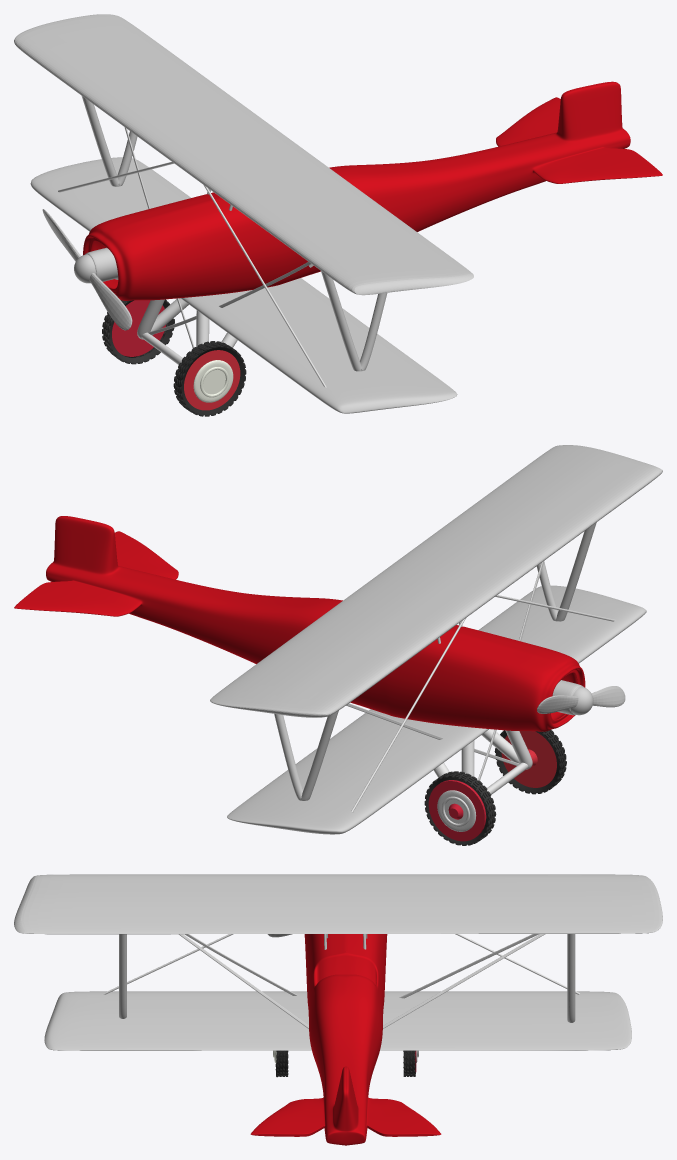
File: fluzeug.fbx
3 renders of one model, top to bottom at view 1: azimuth 30°, elevation 25°; view 2: azimuth 150°, elevation 25°; view 3: azimuth 270°, elevation 25°, orthographic. The views are drawn at different scales.
Parts seen in each view (by area): view 1: flug, MEKANIK, flug.001, ayak, FLUG METAL, Cylinder.002, PERVANE, Cylinder.003, Cylinder.007, Cylinder.005, FLUG METAL.001, Sphere (+3 smaller); view 2: flug, MEKANIK, flug.001, ayak, Cylinder.007, Cylinder.003, FLUG METAL.001, Cylinder.006, FLUG METAL, PERVANE, Cylinder.002, Cylinder.001 (+3 smaller); view 3: flug, flug.001, MEKANIK, flug metal, FLUG METAL.001, fkug metal, FLUG METAL.
Boxes of the visible parts, bbox=[...] form: flug: bbox=[14, 14, 473, 295]; MEKANIK: bbox=[83, 81, 662, 300]; flug.001: bbox=[30, 157, 457, 413]; ayak: bbox=[137, 298, 237, 364]; FLUG METAL: bbox=[321, 271, 387, 371]; Cylinder.002: bbox=[173, 341, 246, 416]; PERVANE: bbox=[42, 209, 132, 330]; Cylinder.003: bbox=[184, 350, 240, 410]; Cylinder.007: bbox=[112, 300, 165, 356]; Cylinder.005: bbox=[193, 360, 233, 402]; FLUG METAL.001: bbox=[81, 96, 137, 186]; Sphere: bbox=[74, 247, 118, 283]; flug: bbox=[210, 445, 662, 717]; MEKANIK: bbox=[14, 516, 585, 731]; flug.001: bbox=[227, 585, 646, 834]; ayak: bbox=[433, 729, 532, 794]; Cylinder.007: bbox=[428, 780, 486, 841]; Cylinder.003: bbox=[501, 731, 556, 787]; FLUG METAL.001: bbox=[274, 710, 338, 800]; Cylinder.006: bbox=[424, 771, 496, 845]; FLUG METAL: bbox=[536, 522, 596, 621]; PERVANE: bbox=[537, 686, 625, 713]; Cylinder.002: bbox=[494, 730, 566, 794]; Cylinder.001: bbox=[437, 790, 476, 831]; flug: bbox=[14, 874, 662, 934]; flug.001: bbox=[44, 991, 631, 1050]; MEKANIK: bbox=[250, 934, 441, 1145]; flug metal: bbox=[179, 934, 545, 1028]; FLUG METAL.001: bbox=[567, 934, 575, 1022]; fkug metal: bbox=[101, 934, 579, 994]; FLUG METAL: bbox=[119, 934, 126, 1018].
Bounding box in the file's own units: 3.1 × 1.24 × 3.58.
